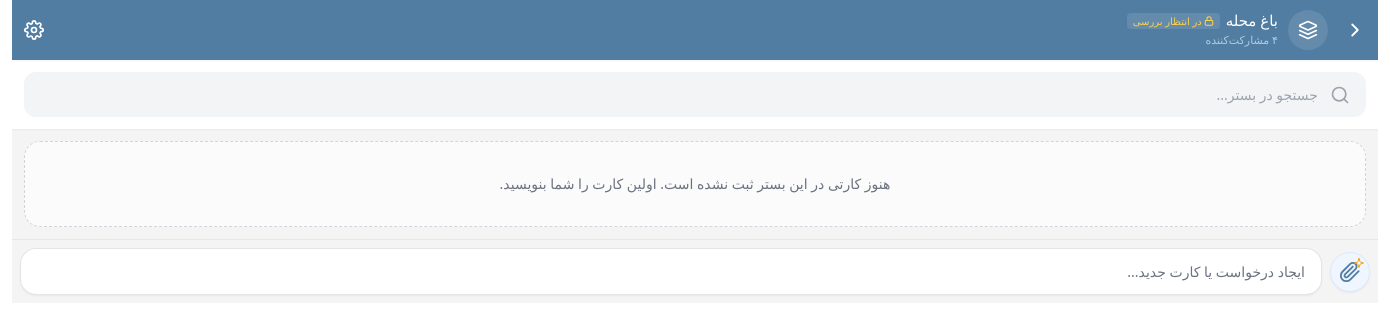
SpacePage: everything that is not the conversation, behind the toolbar › does not offer editing of a space that is not published yet
Expected: the heading "باغ محله در انتظار بررسی" is shown, [1127,11,1278,30]
What coordinates should you click on to do the following:
click the button named "مدیریت بستر"
I would click on:
 (34, 30)
Its box is [16,12,52,48].
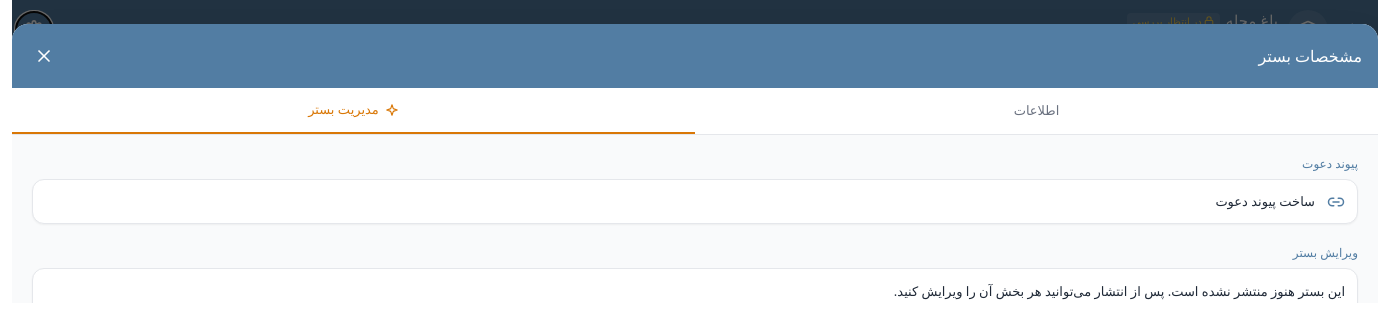
Expected: the text "هنوز منتشر نشده است" is shown, [894,282,1345,300]
